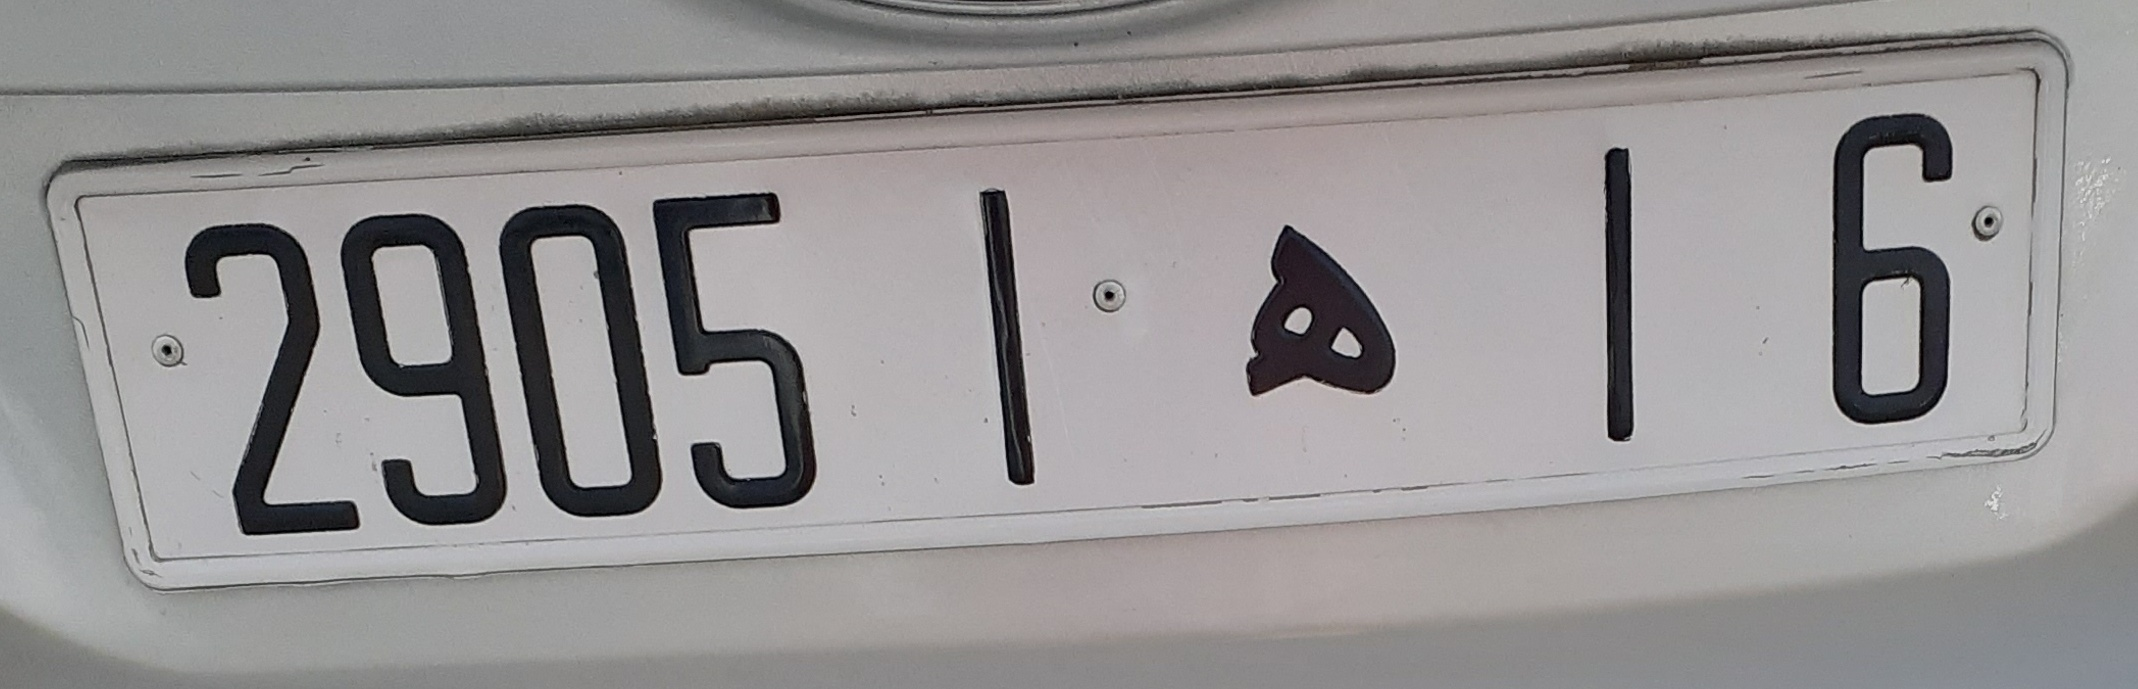0: (492, 187, 672, 537)
2: (173, 206, 369, 549)
5: (643, 171, 839, 537)
6: (1804, 92, 1977, 439)
9: (341, 196, 514, 549)
h: (1183, 181, 1416, 442)
